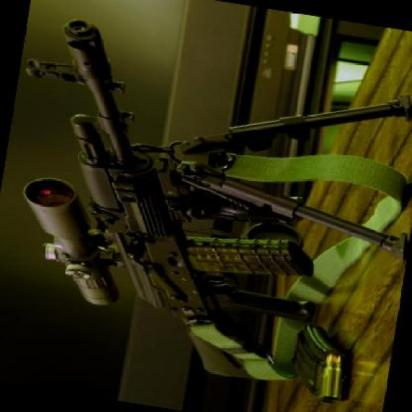Gun: (0, 20, 360, 391)
